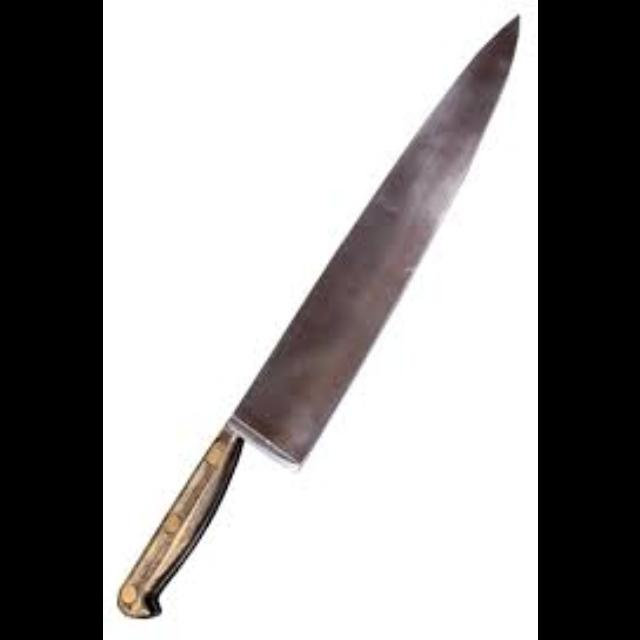Knife: (114, 12, 518, 616)
